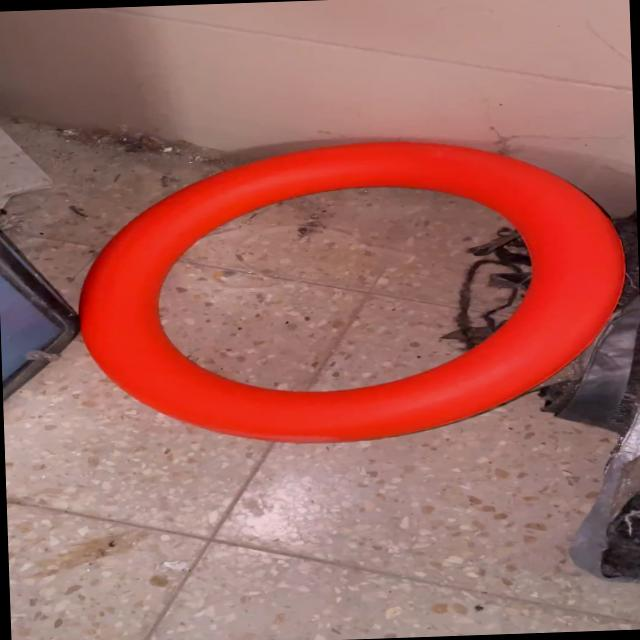note: (68, 132, 632, 454)
